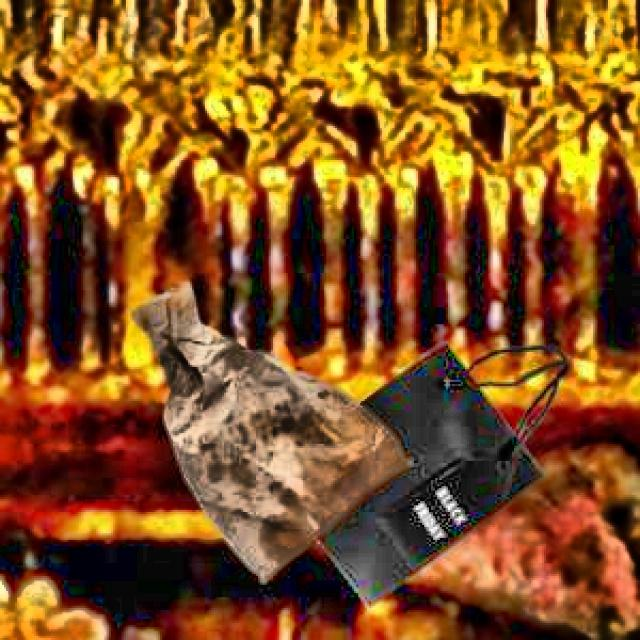Paper-bag: (119, 279, 415, 587), (304, 332, 582, 608)
